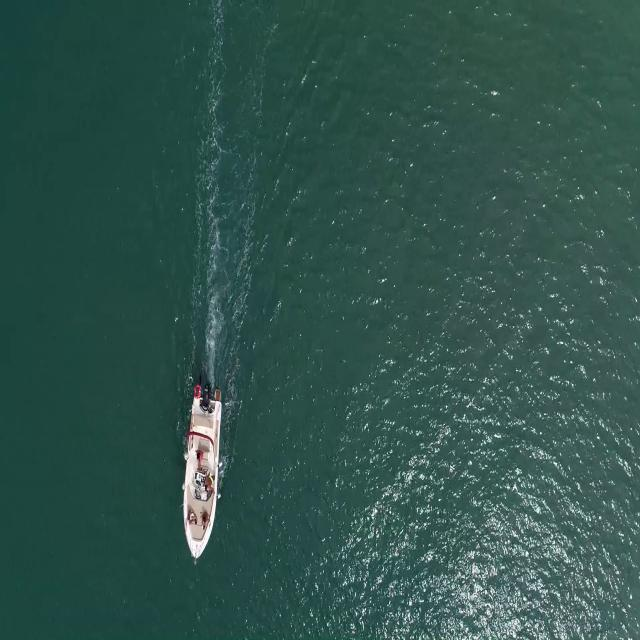boat: (180, 398, 223, 564)
life_buoy: (193, 385, 201, 398)
person: (185, 508, 198, 532), (204, 475, 217, 497), (194, 446, 204, 471), (200, 512, 210, 530)
